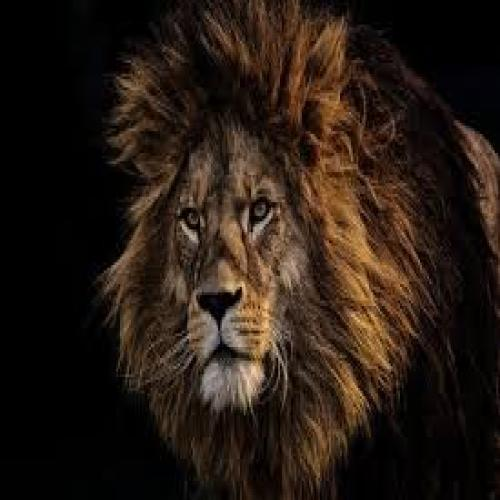lion-endangered: (122, 15, 500, 500)
